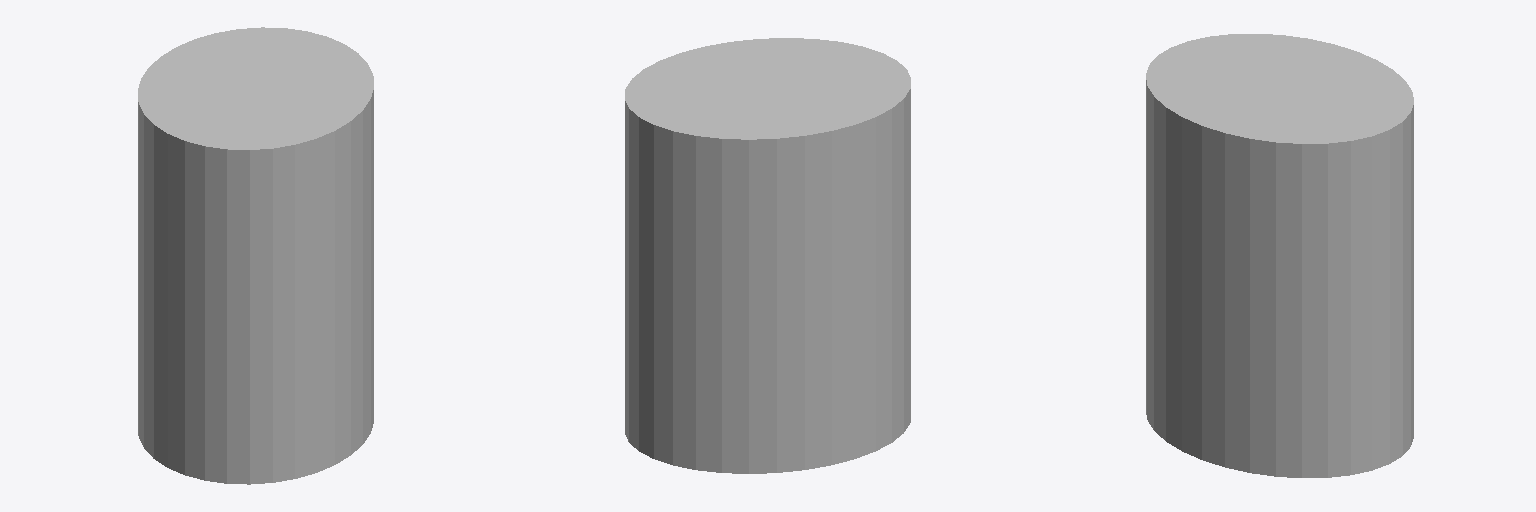
The model's file is CoffeemachineMesh.obj.
3 views of the same model, side by side, from view 1: azimuth 30°, elevation 25°; view 2: azimuth 150°, elevation 25°; view 3: azimuth 270°, elevation 25° (orthographic).
Parts seen in each view (by area): view 1: CoffeemachineClosedMesh_Cylinder.001; view 2: CoffeemachineClosedMesh_Cylinder.001; view 3: CoffeemachineClosedMesh_Cylinder.001.
Part boxes in pixels (x1,y1,x2,y2): CoffeemachineClosedMesh_Cylinder.001: (138, 27, 373, 484); CoffeemachineClosedMesh_Cylinder.001: (625, 38, 910, 473); CoffeemachineClosedMesh_Cylinder.001: (1146, 34, 1413, 477).
Size of the model in its own units: 222 by 313 by 228.